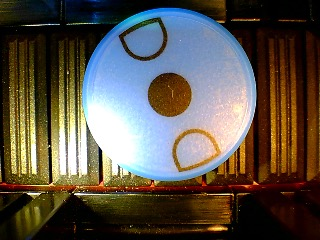BOHOMIPO2: (81, 7, 256, 181)
